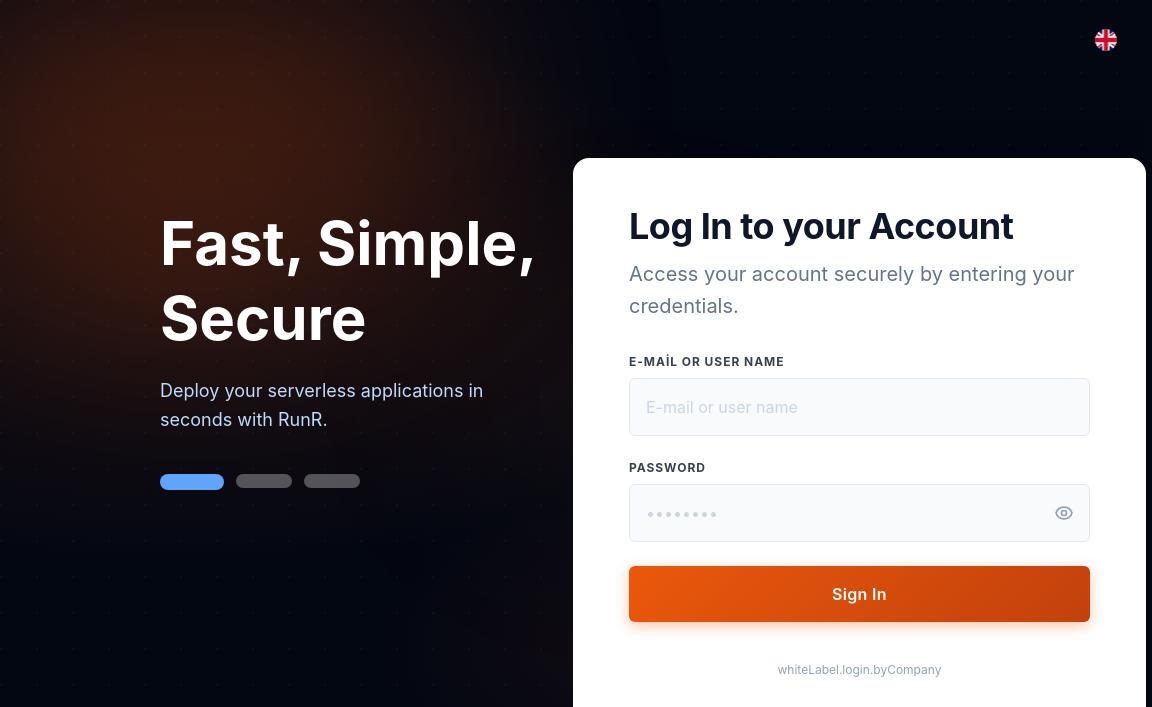
Scenario: LoginView identifier field › shows the API’s answer to wrong credentials and stays on the page
Type "admin" into the field with id "login-identifier" at (860, 407), box [629,378,1090,436]
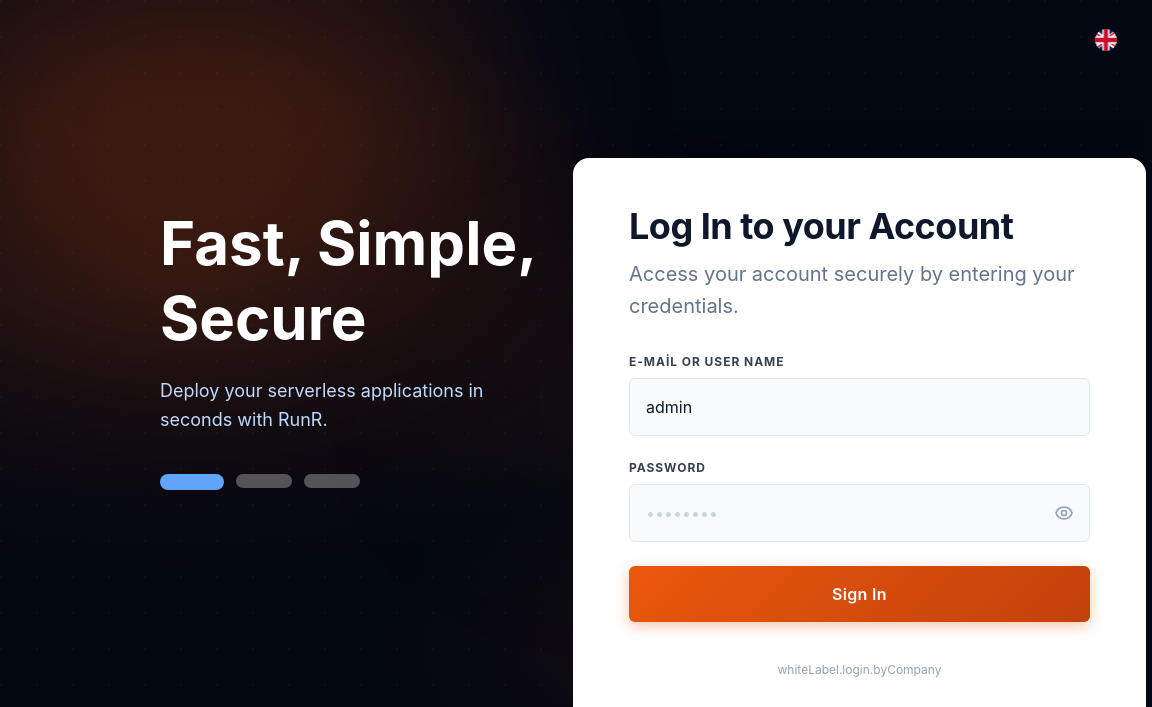
Type "wrong" into the password field with id "login-password" at (860, 513), box [629,484,1090,542]
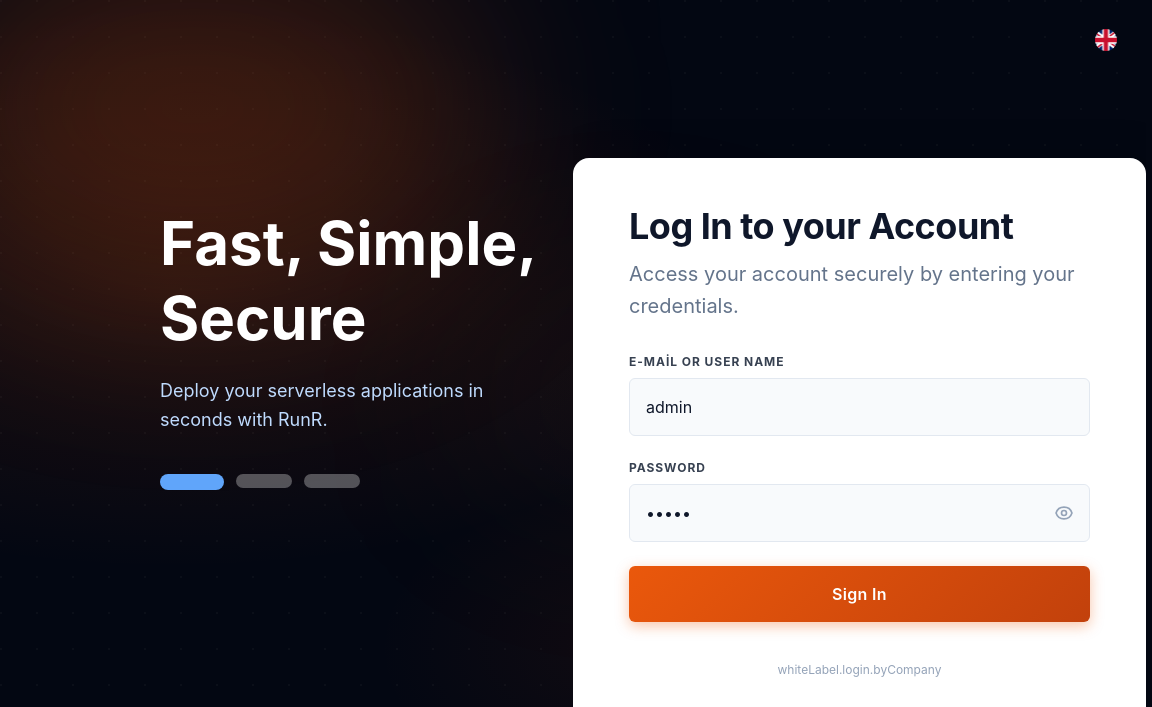
Submit the form, box [629,354,1090,622]
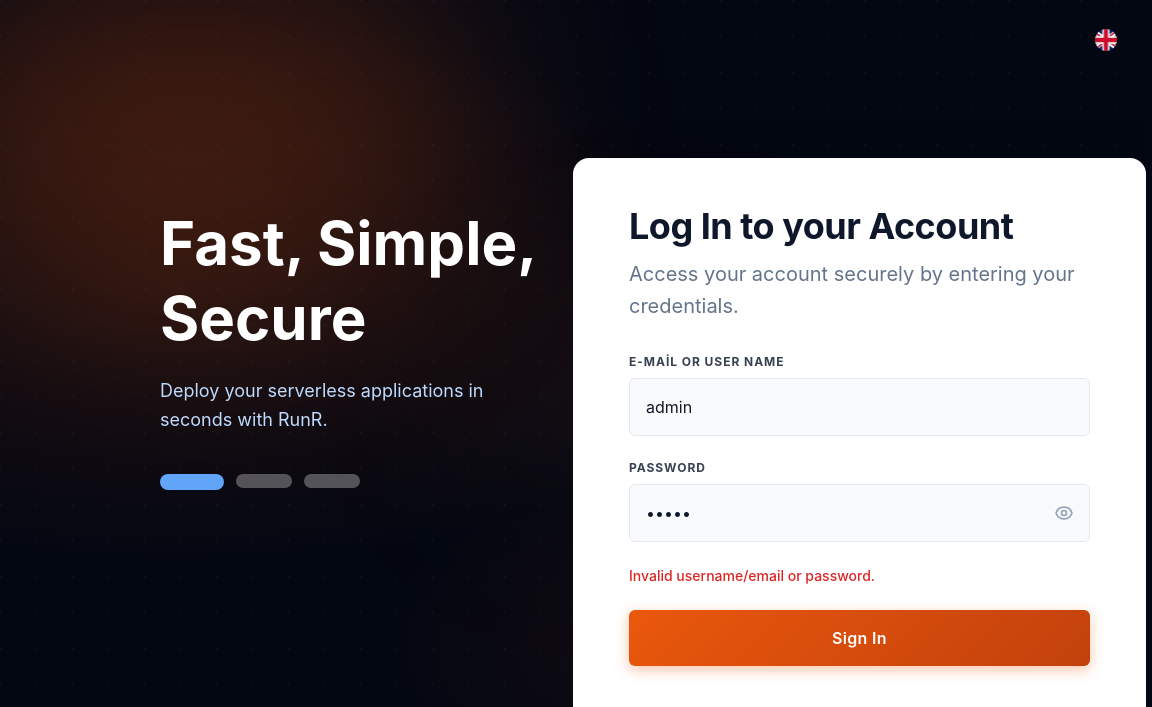
Check: the text "Invalid username/email or password." is shown, box [629,567,875,584]
